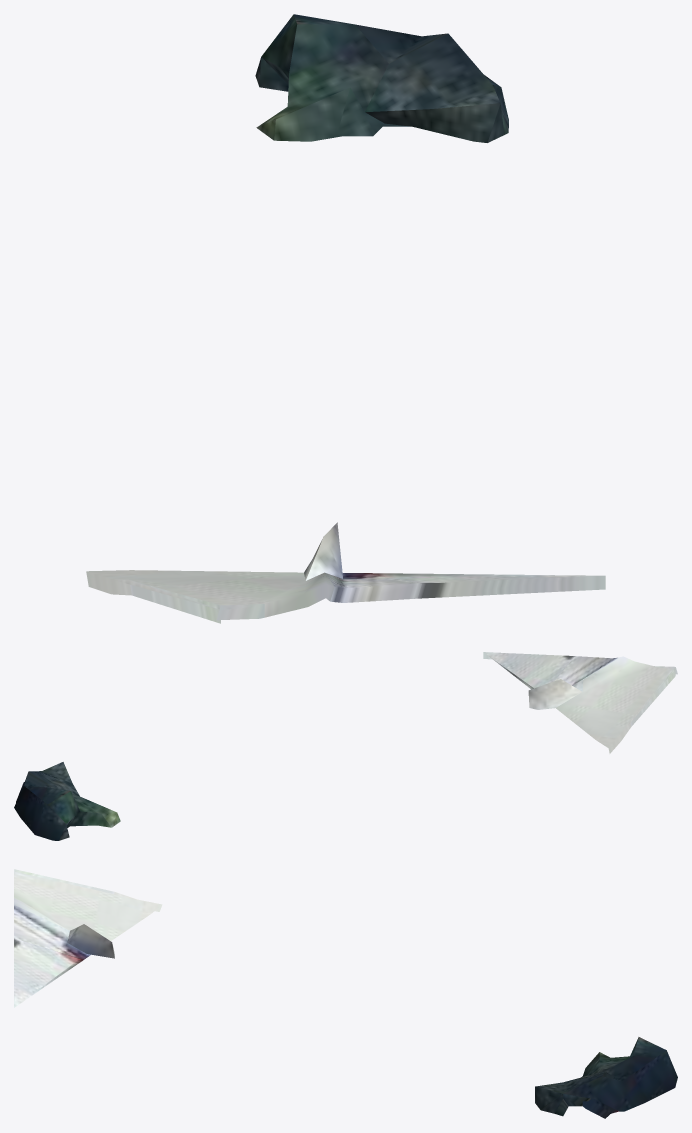
3 views of the same model, one above another, from view 1: azimuth 30°, elevation 25°; view 2: azimuth 150°, elevation 25°; view 3: azimuth 270°, elevation 25° (orthographic). The views are drawn at different scales.
Visible parts, largest first — view 1: 30436272704370607634_0; view 2: 30436272704370607634_0; view 3: 30436272704370607634_0.
Boxes of the visible parts, <box> form: 30436272704370607634_0: <box>86,14,605,623</box>; 30436272704370607634_0: <box>14,652,677,840</box>; 30436272704370607634_0: <box>14,869,677,1118</box>.
Bounding box in the file's own units: 27.45 × 2.94 × 36.56.
Materials: 1 (1 with a texture image).
